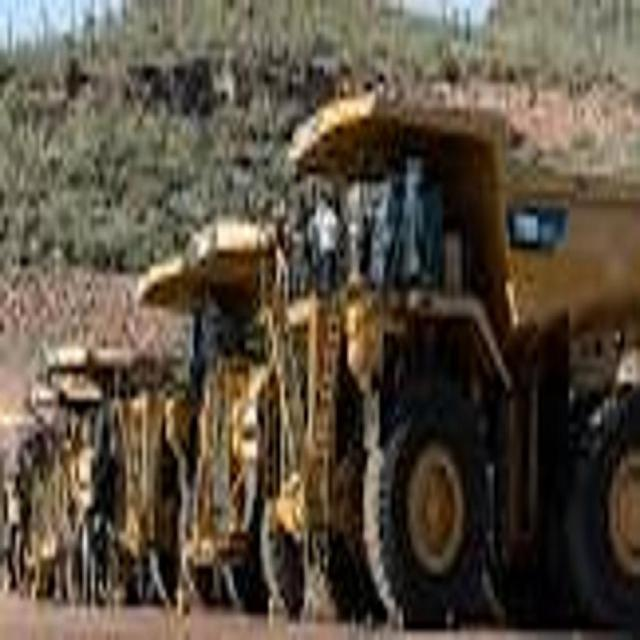dump_truck: (289, 92, 640, 640), (137, 221, 311, 603)
